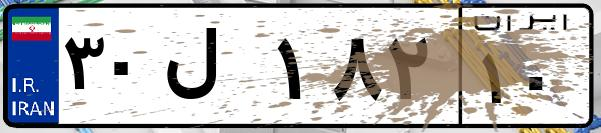0: (525, 38, 570, 115), (110, 28, 158, 98)
1: (270, 28, 330, 110), (475, 38, 525, 113)
2: (385, 28, 445, 110)
3: (57, 26, 110, 100)
8: (330, 28, 385, 110)
ل: (158, 20, 270, 120)
